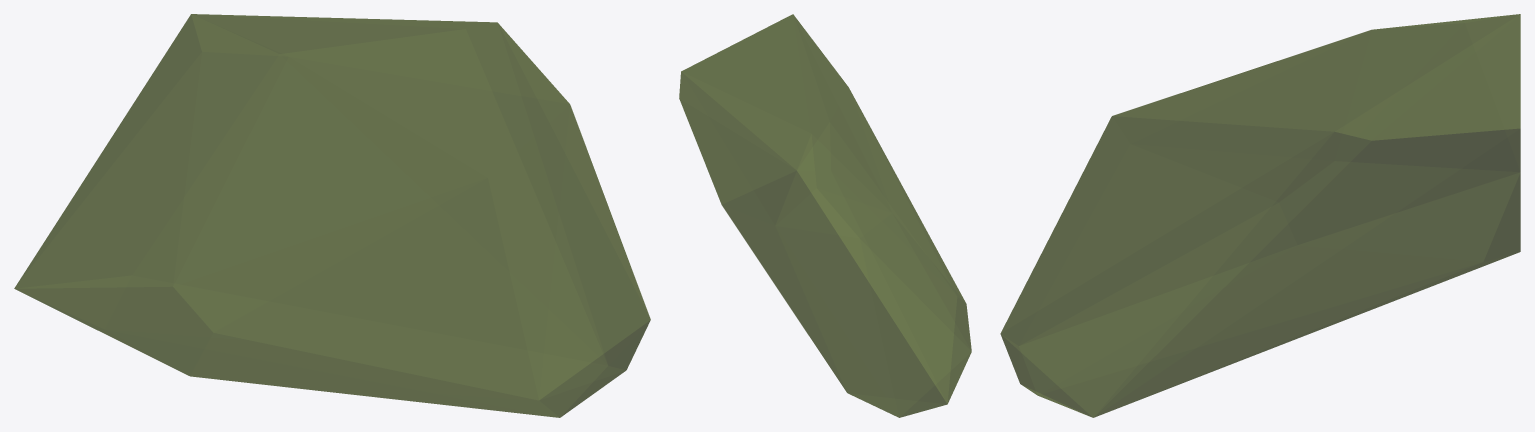
3 views of the same model, side by side, from view 1: azimuth 30°, elevation 25°; view 2: azimuth 150°, elevation 25°; view 3: azimuth 270°, elevation 25° (orthographic). The views are drawn at different scales.
Visible parts, largest first — view 1: Shape_IndexedFaceSet.020_Shape_IndexedFaceSet.9541; view 2: Shape_IndexedFaceSet.020_Shape_IndexedFaceSet.9541; view 3: Shape_IndexedFaceSet.020_Shape_IndexedFaceSet.9541.
Part boxes in pixels (x1=…): Shape_IndexedFaceSet.020_Shape_IndexedFaceSet.9541: x1=14, y1=14, x2=650, y2=417; Shape_IndexedFaceSet.020_Shape_IndexedFaceSet.9541: x1=679, y1=14, x2=971, y2=417; Shape_IndexedFaceSet.020_Shape_IndexedFaceSet.9541: x1=1000, y1=14, x2=1520, y2=417.
Bounding box in the file's own units: 0.1779 × 0.1186 × 0.1845.
